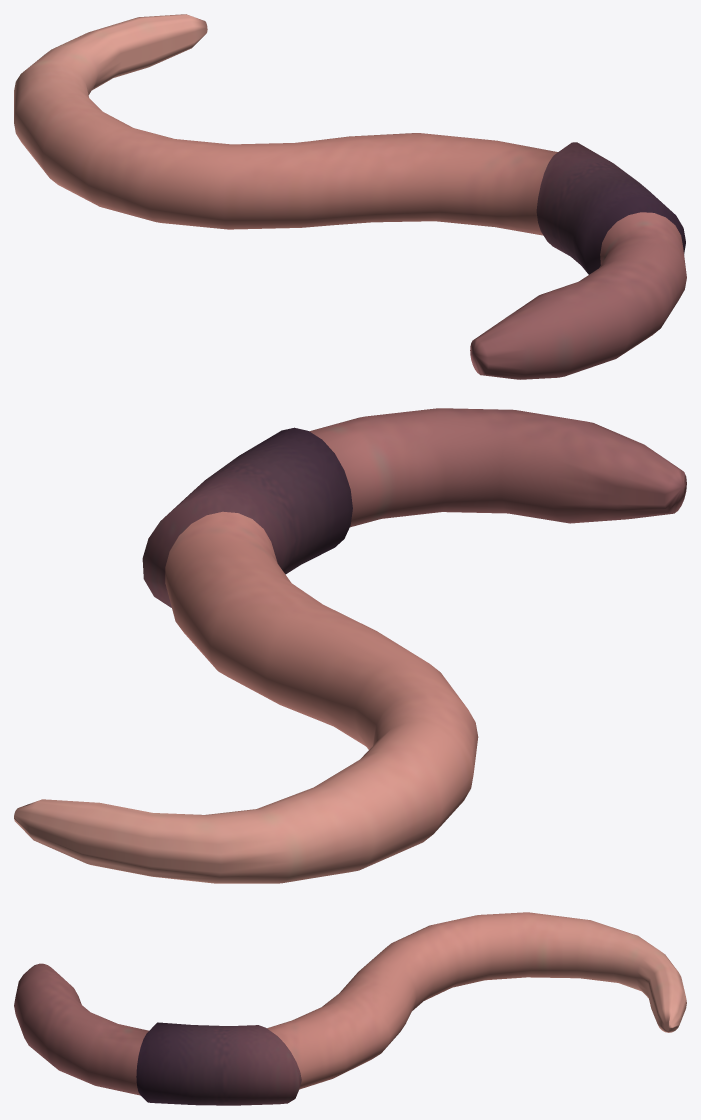
Rendered from Worm.fbx.
3 renders of one model, top to bottom at view 1: azimuth 30°, elevation 25°; view 2: azimuth 150°, elevation 25°; view 3: azimuth 270°, elevation 25°, orthographic. The views are drawn at different scales.
Visible parts, largest first — view 1: pTorus3; view 2: pTorus3; view 3: pTorus3.
Part boxes in pixels (<box>): pTorus3: <box>14,14,686,379</box>; pTorus3: <box>14,408,686,883</box>; pTorus3: <box>14,912,686,1105</box>.
Bounding box in the file's own units: 5.37 × 1.24 × 10.15.
Materials: 1 (1 with a texture image).
